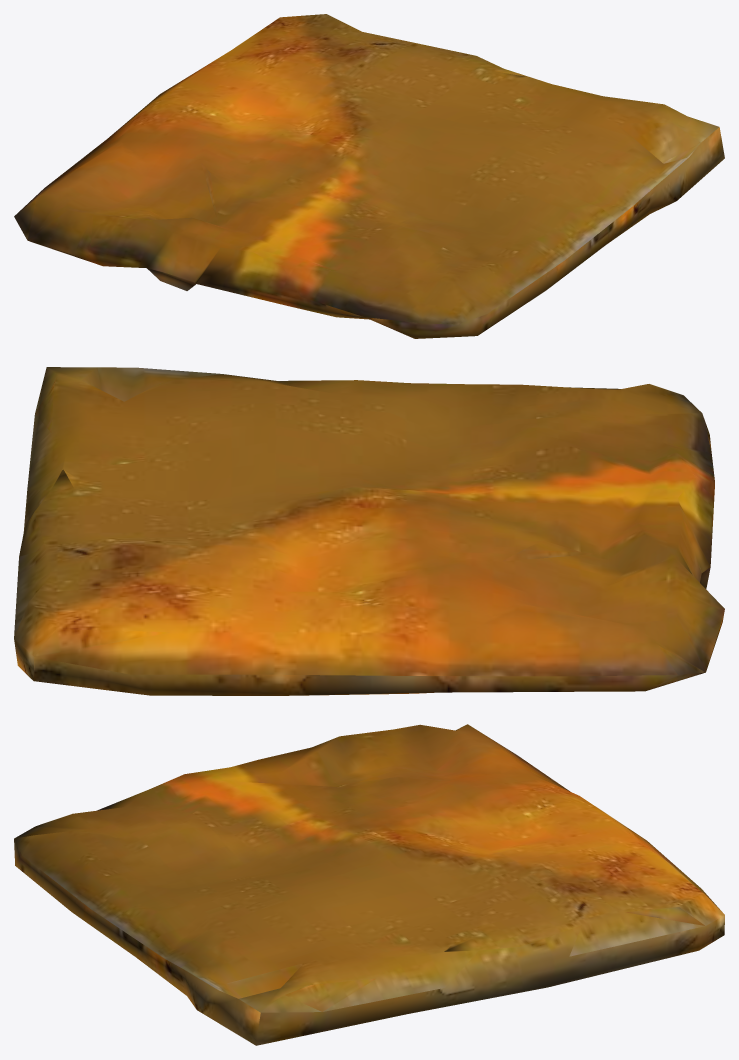
The model's file is cheese.glb.
The picture shows the model from 3 angles, top to bottom: view 1: azimuth 30°, elevation 25°; view 2: azimuth 150°, elevation 25°; view 3: azimuth 270°, elevation 25°; orthographic projection. The views are drawn at different scales.
Parts seen in each view (by area): view 1: cheese; view 2: cheese; view 3: cheese.
Boxes of the visible parts, left/top/right/bottom form: cheese: left=14, top=14, right=724, bottom=338; cheese: left=14, top=367, right=724, bottom=695; cheese: left=14, top=724, right=724, bottom=1045.
Size of the model in its own units: 10.15 by 1.11 by 9.99.
1 material, 1 textured.
